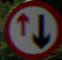Two way: (6, 8, 55, 50)
